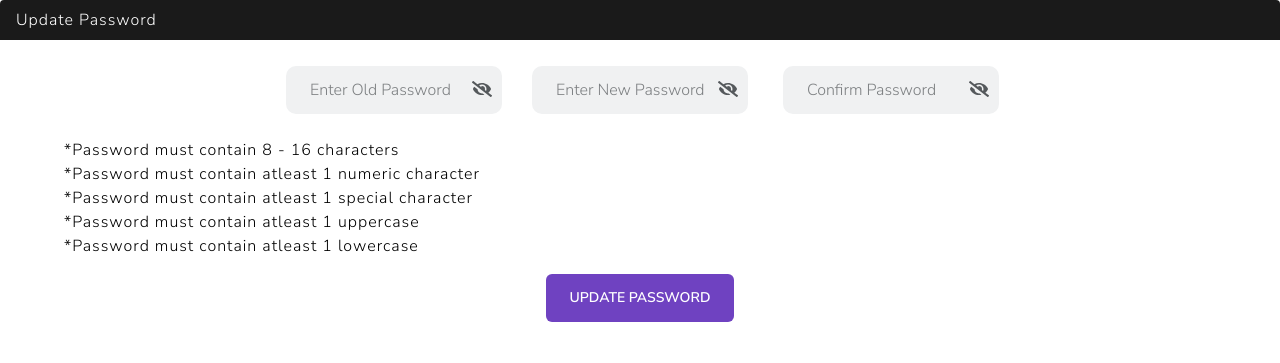
Test: Update Password Tests › renders validation without error
Click the button with test id "section2-btn" at (640, 298), box left=546, top=274, right=734, bottom=322
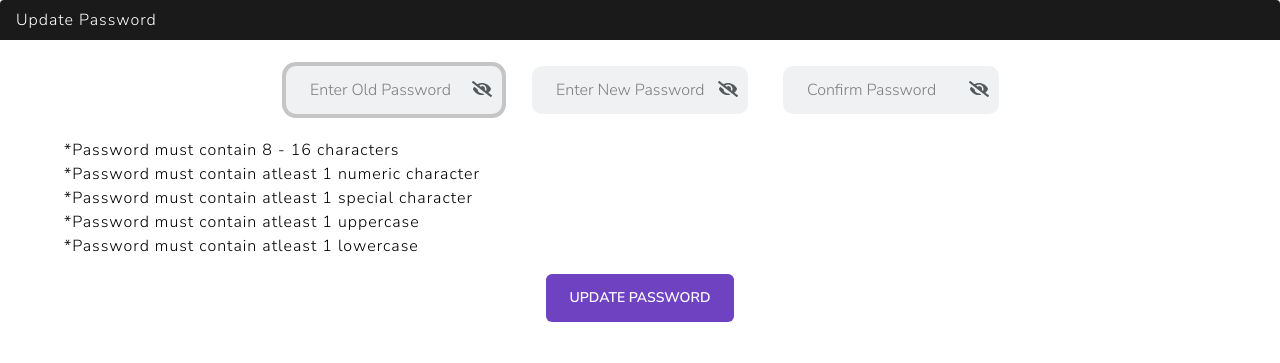
Submit the form with test id "update-password-form", box left=64, top=66, right=999, bottom=322
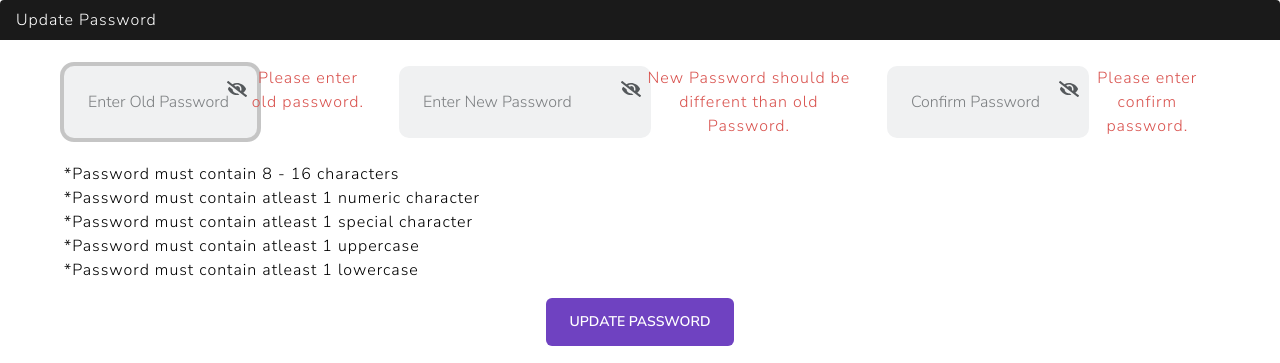
Expected: the text "Please enter old password." is shown, left=247, top=66, right=369, bottom=138
Expected: the text "New Password should be different than old Password." is shown, left=641, top=66, right=857, bottom=138
Expected: the text "Please enter confirm password." is shown, left=1097, top=67, right=1197, bottom=137
